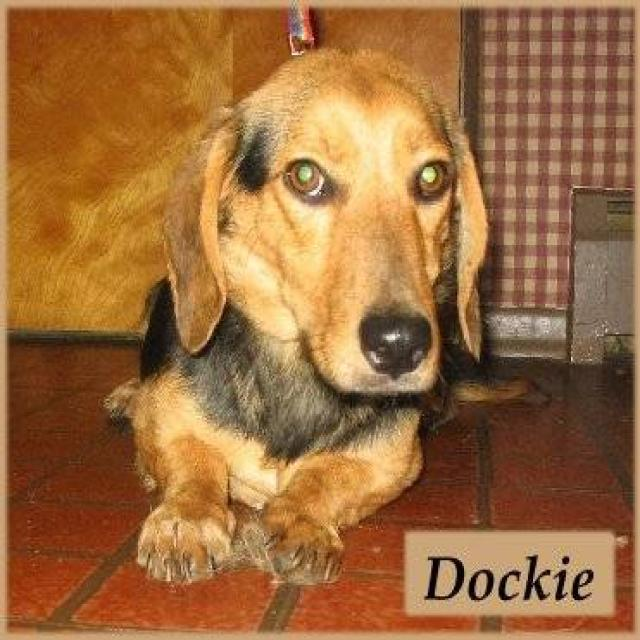dog: (102, 44, 536, 587)
